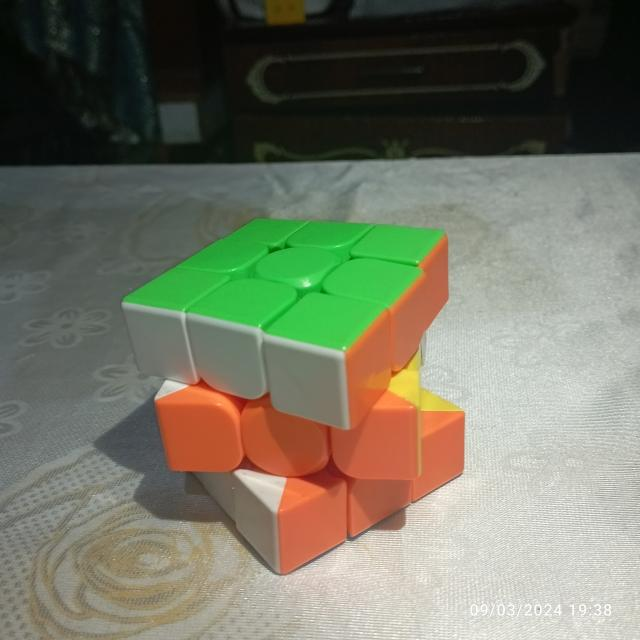Rub: (114, 212, 471, 584)
